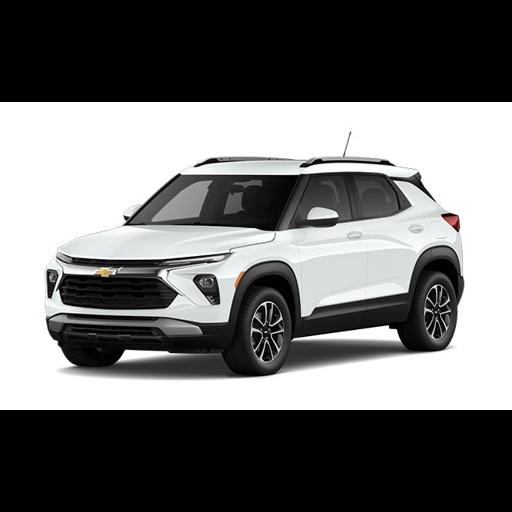suv: (44, 156, 463, 374)
